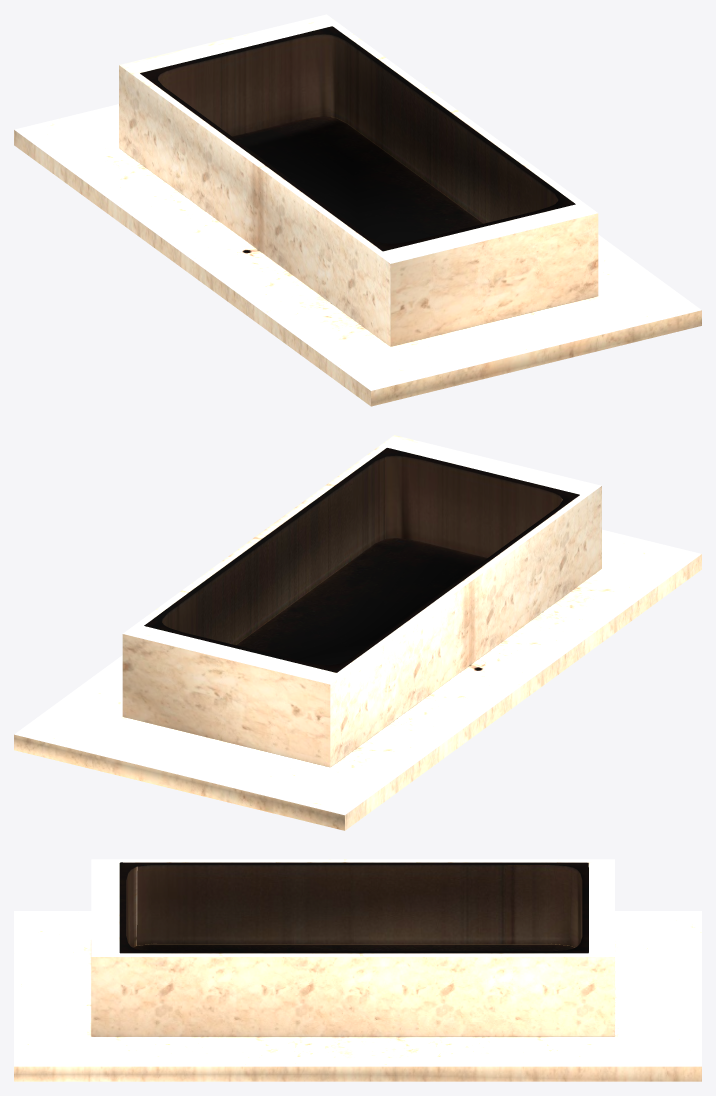
File: Romantic_Beige.glb
3 views of the same model, one above another, from view 1: azimuth 30°, elevation 25°; view 2: azimuth 150°, elevation 25°; view 3: azimuth 270°, elevation 25° (orthographic). The views are drawn at different scales.
Visible parts, largest first — view 1: Romantic_Beige; view 2: Romantic_Beige; view 3: Romantic_Beige.
Part boxes in pixels (left/top/right/bottom): Romantic_Beige: left=14, top=14, right=701, bottom=406; Romantic_Beige: left=14, top=435, right=701, bottom=830; Romantic_Beige: left=14, top=859, right=701, bottom=1081.
Size of the model in its own units: 1.57 by 0.5265 by 2.94.
Materials: 1 (1 with a texture image).
